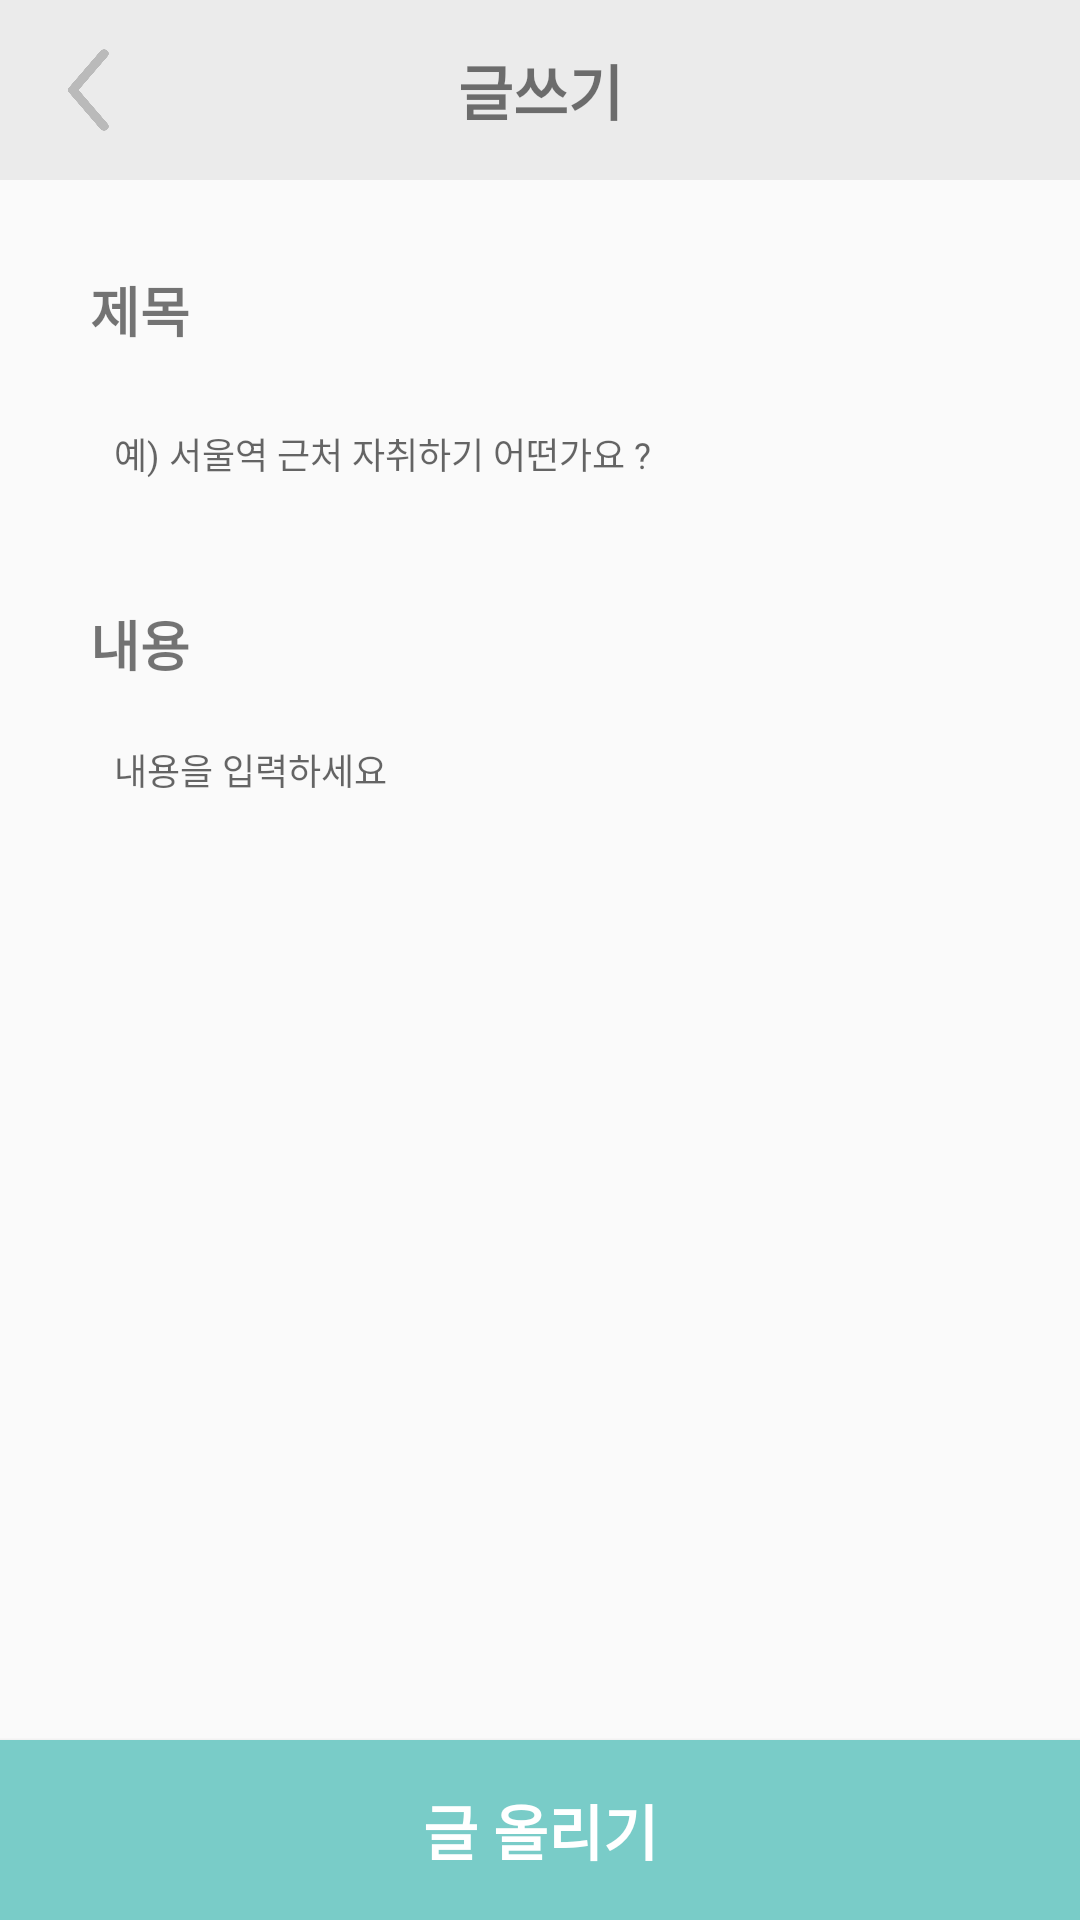

Where icons sit on this 1080×1920 app screen, as (x1, y1, x2, y2):
back: (68, 49, 109, 131)
